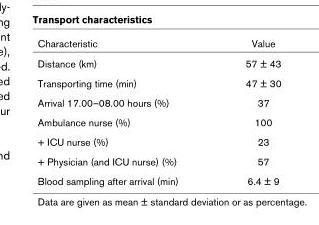table: (36, 36, 280, 186)
table column: (36, 36, 211, 186), (211, 36, 280, 186)
table column header: (36, 36, 280, 52)
table row: (36, 52, 280, 72), (36, 72, 280, 92), (36, 92, 280, 112), (36, 131, 280, 151), (36, 112, 280, 131), (36, 151, 280, 170), (36, 36, 280, 52), (36, 170, 280, 186)
